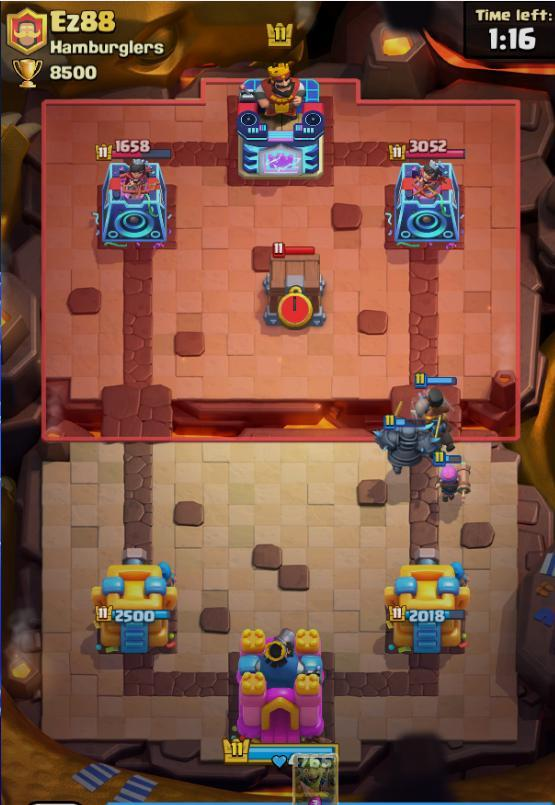EGoblinCage: (265, 239, 326, 325)
EKingTower: (237, 59, 327, 181)
EnemyPrincessTower: (390, 140, 467, 247), (99, 140, 176, 247)
OBigPekka: (371, 420, 429, 473)
OCannoneerTower: (387, 544, 464, 647), (98, 542, 174, 645)
OFirecrack: (435, 455, 473, 501)
ORamrider: (415, 368, 454, 425)
OwnKingTower: (228, 617, 334, 746)
